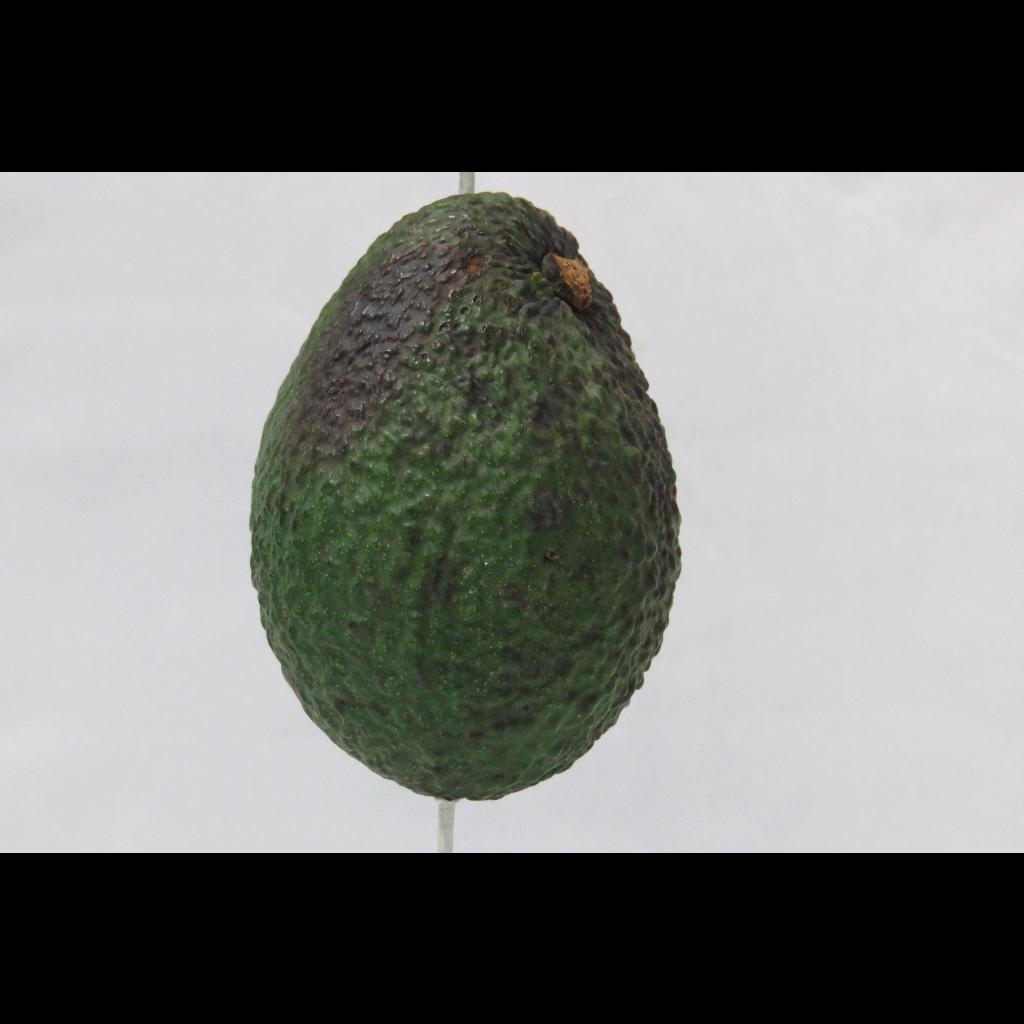Healthy: (210, 178, 744, 816)
